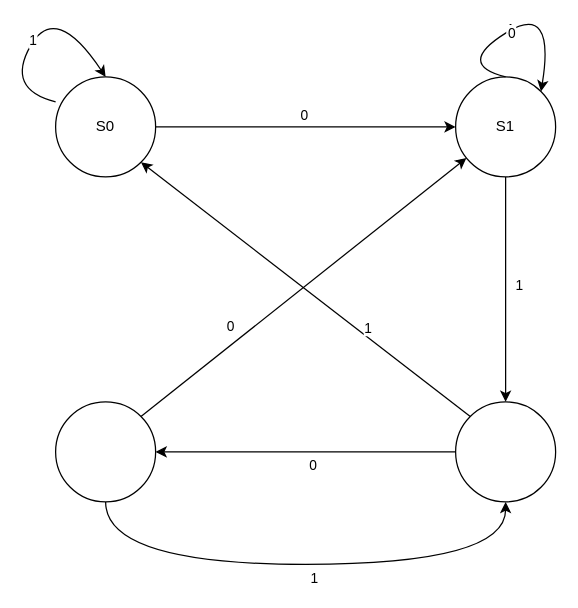
This 578x608 diagram has some shape labels left out. Each missing label, with the box of its shape:
S2: (454, 401, 556, 502)
S3: (54, 401, 156, 502)
